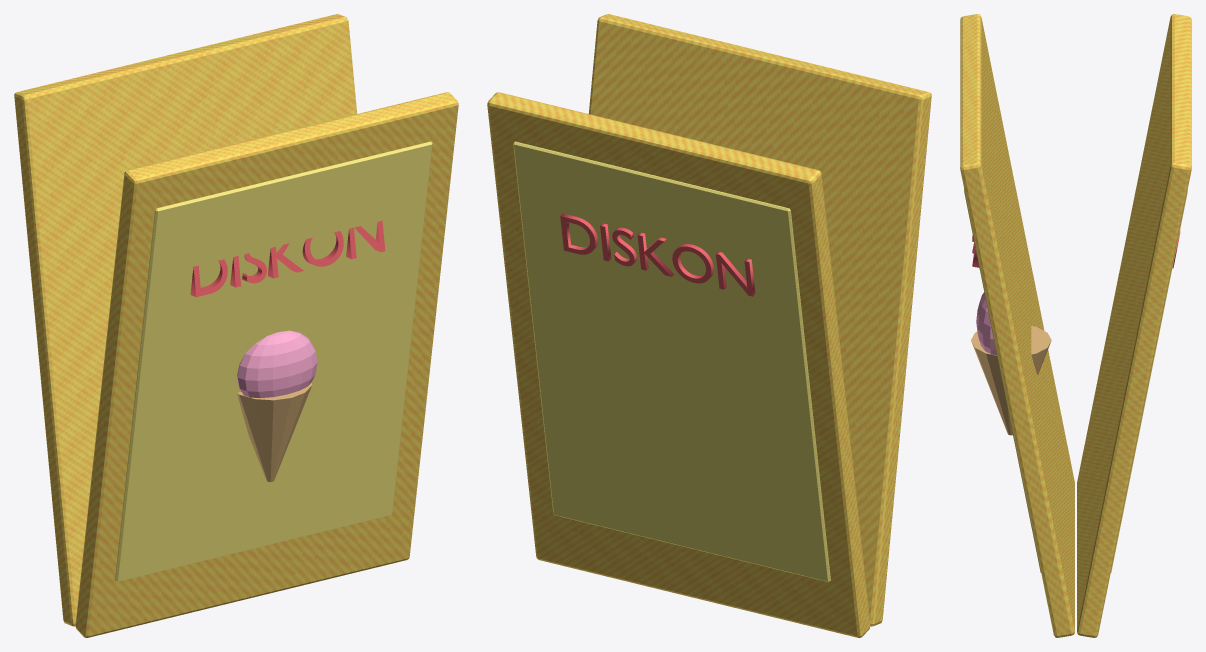
File: papan_promo.fbx
3 renders of one model, left to right at view 1: azimuth 30°, elevation 25°; view 2: azimuth 150°, elevation 25°; view 3: azimuth 270°, elevation 25°, orthographic. The views are drawn at different scales.
Parts seen in each view (by area): view 1: papan_promo; view 2: papan_promo; view 3: papan_promo.
Part boxes in pixels (x1,y1,x2,y2): papan_promo: [14, 14, 458, 637]; papan_promo: [487, 14, 931, 637]; papan_promo: [960, 14, 1191, 637].
Bounding box in the file's own units: 400 × 583 × 258.
1 material, 1 textured.
